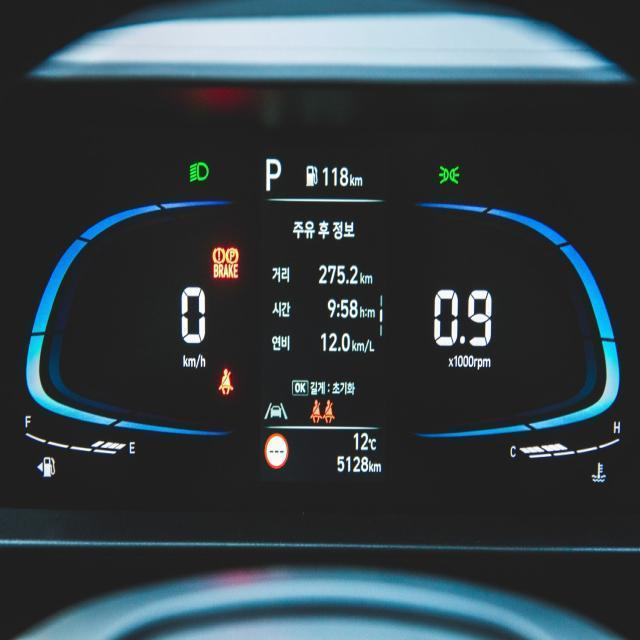LaneCenteringOff: (264, 400, 286, 420)
Low beam: (188, 159, 208, 183)
SideLamp: (437, 163, 459, 186)
